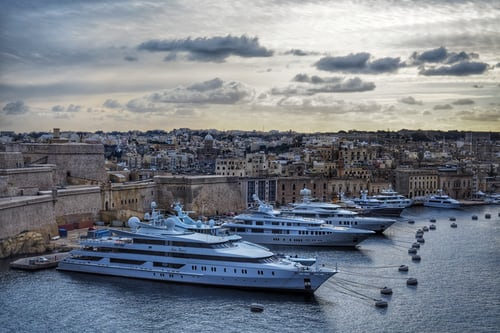yacht: (54, 208, 342, 304)
